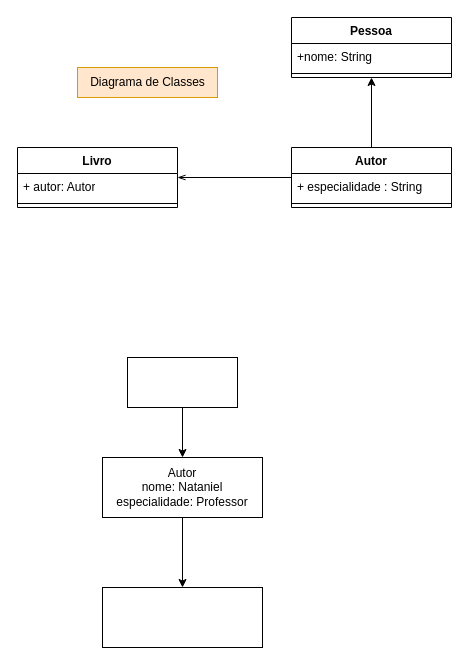
Some shapes in this 469 by 665 pixel diagram are drawn without their labels. The centre of each missing label's shape, as x and y in pixels:
Livro autor: Nataniel especialidade: Professor: point 182,617
Pessoa nome: Nataniel: point 182,382
